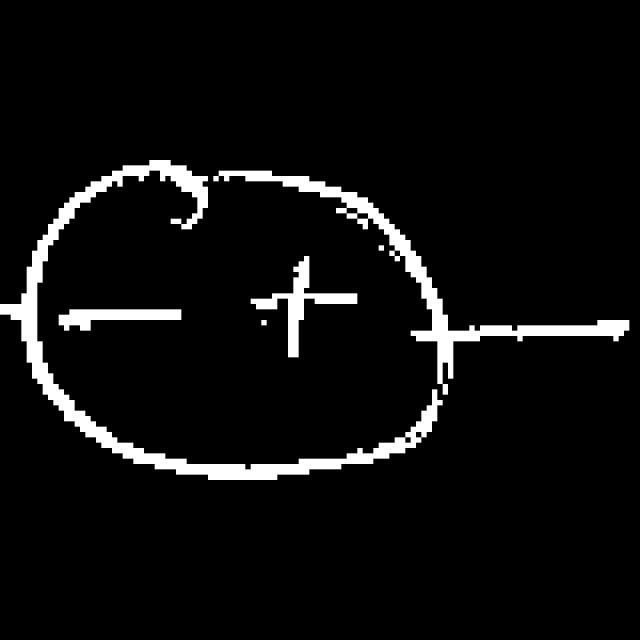voltage_source: (20, 150, 455, 500)
